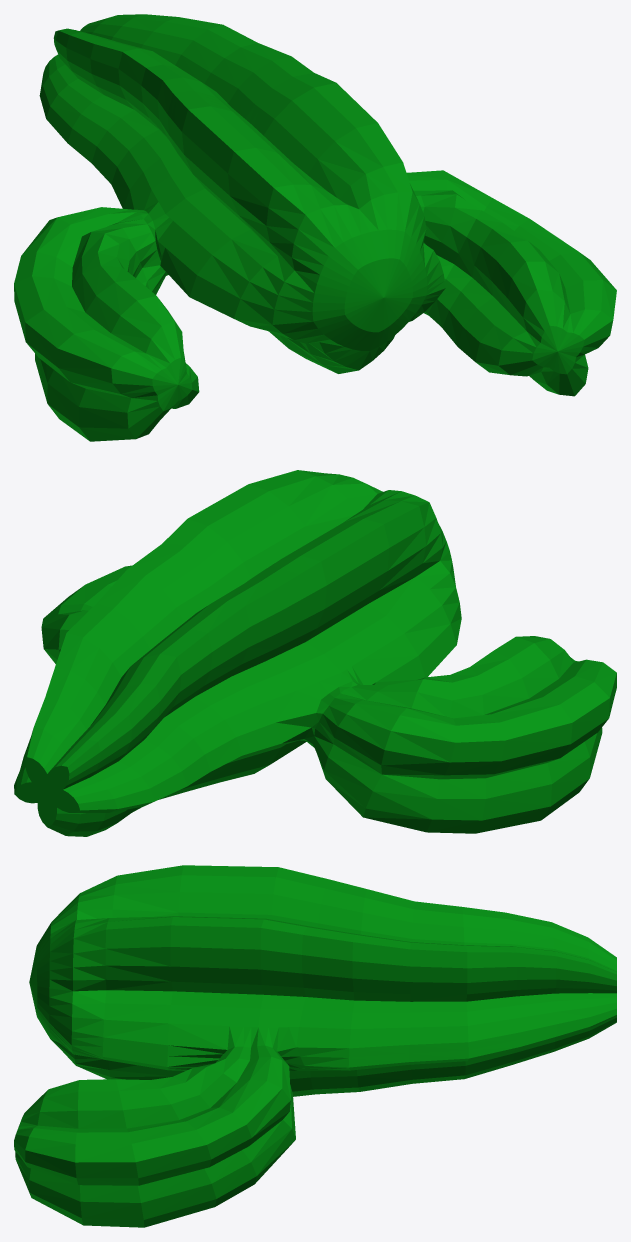
The model's file is SmallCactus.dae.
3 views of the same model, one above another, from view 1: azimuth 30°, elevation 25°; view 2: azimuth 150°, elevation 25°; view 3: azimuth 270°, elevation 25° (orthographic). The views are drawn at different scales.
Parts seen in each view (by area): view 1: Circle_001; view 2: Circle_001; view 3: Circle_001.
Boxes of the visible parts, x1,y1,x2,y2 form: Circle_001: (14, 14, 616, 441); Circle_001: (14, 470, 616, 836); Circle_001: (14, 865, 616, 1227).
Size of the model in its own units: 2.22 by 1.08 by 2.45.
